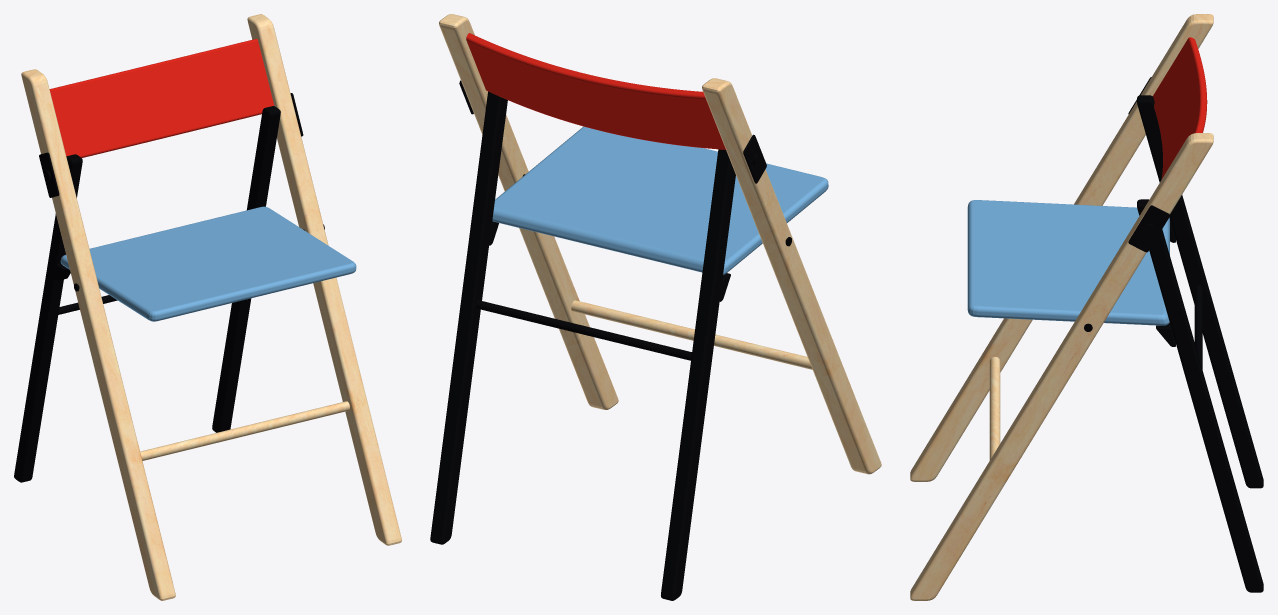
The model's file is chair-007-seat-angled.glb.
The picture shows the model from 3 angles, left to right: view 1: azimuth 30°, elevation 25°; view 2: azimuth 150°, elevation 25°; view 3: azimuth 270°, elevation 25°; orthographic projection. The views are drawn at different scales.
Visible parts, largest first — view 1: seat, backPanel, frameR, frameL, legR, legL, stretcher; view 2: seat, backPanel, frameR, legL, legR, frameL, stretcher, rod, hingeR; view 3: seat, frameL, frameR, legL, legR, backPanel, stretcher, hingeL, rod.
Part boxes in pixels (x1,y1,x2,y2): seat: (60,206,356,321); backPanel: (49,38,274,157); frameR: (21,69,175,600); frameL: (247,14,401,545); legR: (14,154,82,482); legL: (212,106,280,432); stretcher: (140,401,349,460); seat: (492,126,828,275); backPanel: (466,33,725,149); frameR: (702,78,881,474); legL: (430,91,507,544); legR: (661,149,735,600); frameL: (439,14,618,409); stretcher: (571,300,812,369); rod: (476,300,691,360); hingeR: (743,134,766,183); seat: (967,200,1169,325); frameL: (910,133,1213,600); frameR: (910,14,1213,481); legL: (1137,199,1263,592); legR: (1137,95,1263,488); backPanel: (1153,37,1207,179); stretcher: (989,357,1000,460); hingeL: (1128,205,1169,252); rod: (1194,285,1202,369).
Size of the model in its own units: 0.463 by 0.76 by 0.5276.
8 materials, 3 textured.
